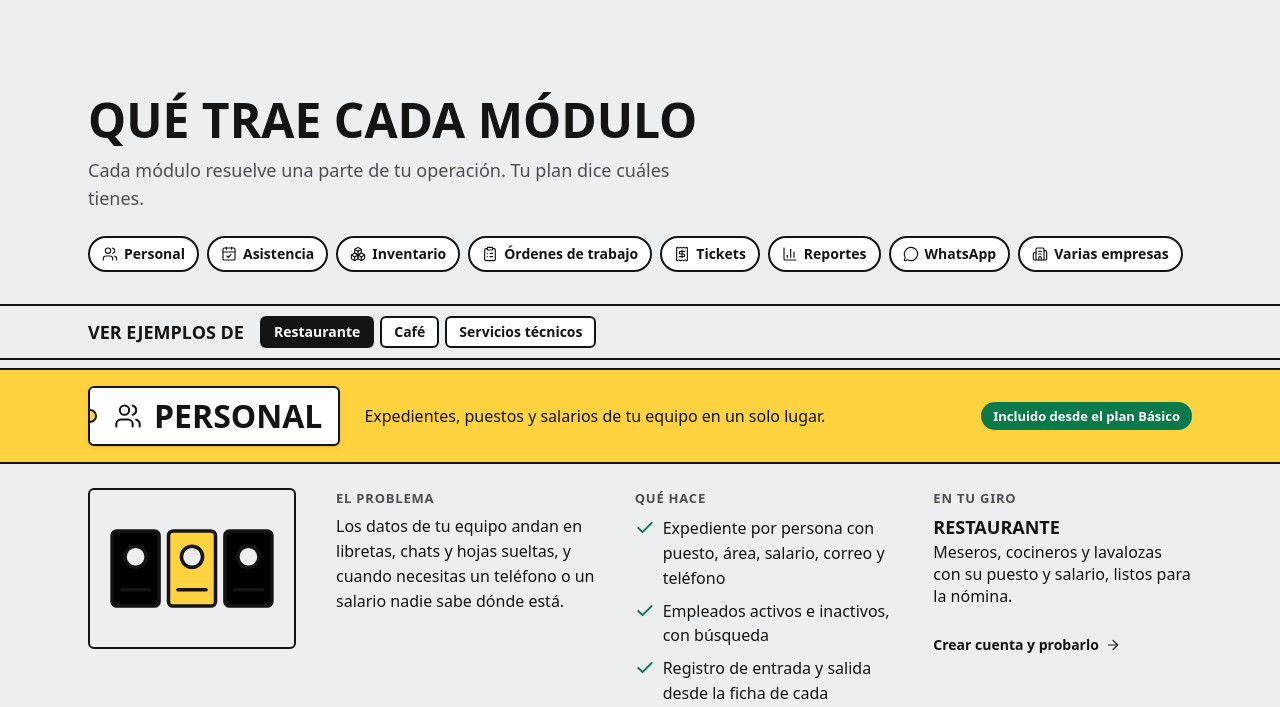
Test case: ModuleShowcase › elección de giro › Restaurante viene marcado y se puede cambiar de giro
The width and height of the screenshot is (1280, 707).
Expected: the radio button labelled "Restaurante" is checked, left=260, top=316, right=374, bottom=348
What coordinates should you click on to do the following:
click the radio button labelled "Café"
I would click on:
 (410, 332)
Its box is left=380, top=316, right=439, bottom=348.
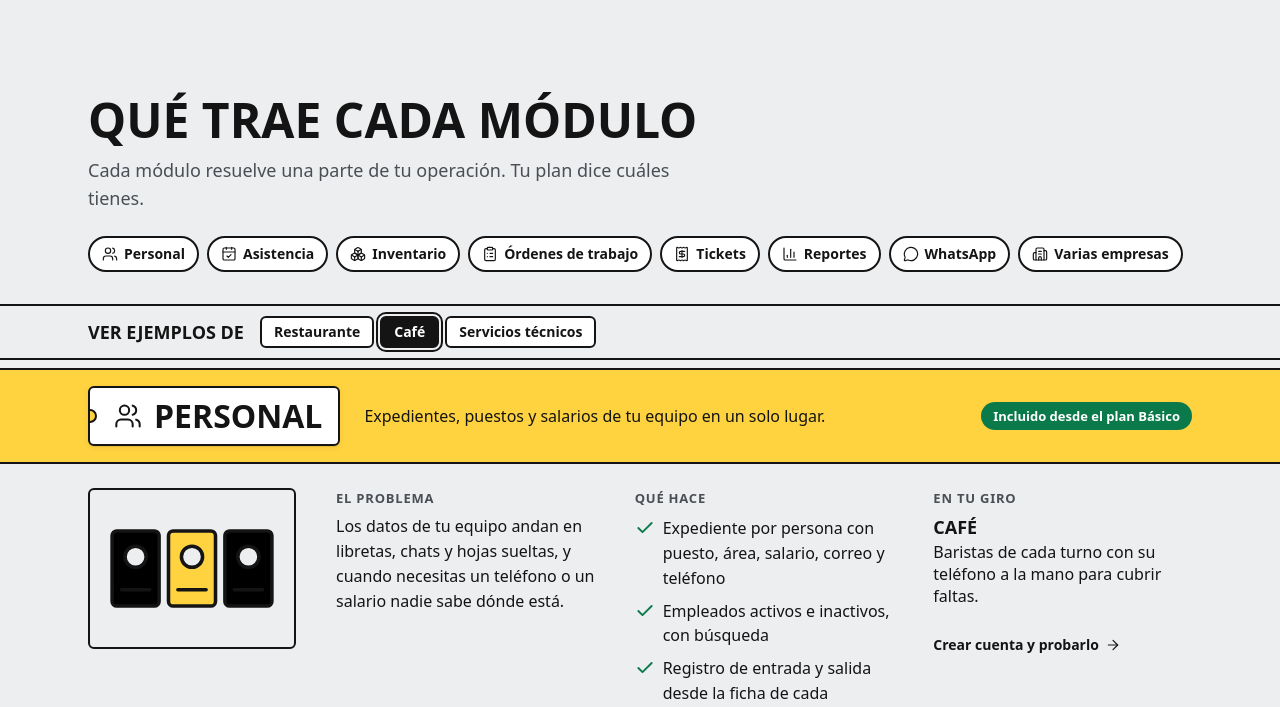
Result: the radio button labelled "Café" is checked at left=380, top=316, right=439, bottom=348
Result: the radio button labelled "Restaurante" is not checked at left=260, top=316, right=374, bottom=348
